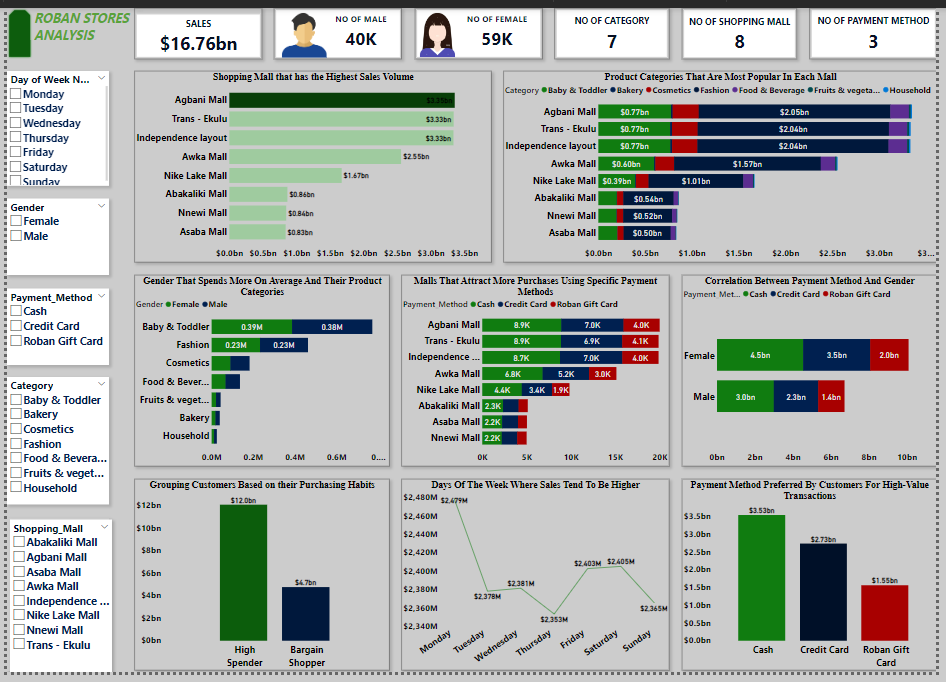

The dashboard page shown, as its layout file describes it:
{"tool":"powerbi","page":{"name":"Visualization","canvas":[3500,2500],"ordinal":0},"visuals":[{"type":"barChart","title":"Shopping Mall that has the Highest Sales Volume","fields":{"Y":["Measure Table.SalesAmount"],"Category":["RobanStoresDataset_Fact_Table.Shopping_Mall"]},"box":[480,240,1344,720],"z":0},{"type":"barChart","title":"Malls That Attract More Purchases Using Specific Payment Methods","fields":{"Series":["PaymentSummary.Payment_Method"],"Category":["PaymentSummary.Shopping_Mall"],"Y":["Sum(PaymentSummary.TransactionCount)"]},"box":[1488,1008,1008,720],"z":1000},{"type":"cardVisual","title":"Sales","fields":{"Data":["Measure Table.SalesAmount"]},"box":[480,0,480,192],"z":2000},{"type":"columnChart","title":"Grouping Customers Based on their Purchasing Habits","fields":{"Category":["RobanStoresDataset_Fact_Table.SpendCluster"],"Y":["Measure Table.SalesAmount"]},"box":[480,1776,960,720],"z":3000},{"type":"barChart","title":"Correlation Between Payment Method And Gender ","fields":{"Category":["RobanStoresDataset_Fact_Table.Gender"],"Series":["Payment_Dimension_Table.Payment_Method"],"Y":["Measure Table.TotalSpend"]},"box":[2540,1008,960,720],"z":4000},{"type":"barChart","title":"Gender That Spends More On Average And Their Product Categories","fields":{"Category":["Category_Dimension_Table.Category"],"Y":["Avg(RobanStoresDataset_Fact_Table.Total Sales)"],"Series":["RobanStoresDataset_Fact_Table.Gender"]},"box":[480,1008,960,720],"z":5000},{"type":"slicer","fields":{"Values":["Payment_Dimension_Table.Payment_Method"]},"box":[0,1056,384,288],"z":6000},{"type":"slicer","fields":{"Values":["RobanStoresDataset_Fact_Table.Category"]},"box":[0,1392,384,480],"z":7000},{"type":"slicer","fields":{"Values":["RobanStoresDataset_Fact_Table.Gender"]},"box":[0,720,384,288],"z":8000},{"type":"textbox","box":[96,0,384,192],"z":9000},{"type":"shape","box":[0,0,96,192],"z":10000},{"type":"cardVisual","fields":{"Data":["Measure Table.Male Count"]},"box":[1008,0,480,192],"z":11000},{"type":"cardVisual","fields":{"Data":["Measure Table.Female Count"]},"box":[1536,0,480,192],"z":12000},{"type":"slicer","fields":{"Values":["RobanStoresDataset_Fact_Table.Shopping_Mall"]},"box":[0,1920,384,576],"z":13000},{"type":"lineChart","title":"Days Of The Week Where Sales Tend To Be Higher","fields":{"Category":["CalendarTable.Day of Week Name"],"Y":["Measure Table.SalesAmount"]},"box":[1488,1776,1008,720],"z":14000},{"type":"clusteredColumnChart","title":"Payment Method Preferred By Customers For High-Value Transactions","fields":{"Category":["HighValuePaymentSummary.Payment_Method"],"Y":["Sum(HighValuePaymentSummary.TotalHighValue)"]},"box":[2540,1776,960,720],"z":15000},{"type":"slicer","fields":{"Values":["RobanStoresDataset_Fact_Table.Shopping_Mall"]},"box":[10,1924,384,576],"z":16000},{"type":"barChart","title":"Product Categories That Are Most Popular In Each Mall","fields":{"Category":["SalesByMallAndCategory.Shopping_Mall"],"Y":["Sum(SalesByMallAndCategory.TotalSalesAmount)"],"Series":["SalesByMallAndCategory.Category"]},"box":[1868,240,1632,720],"z":17000},{"type":"slicer","fields":{"Values":["CalendarTable.Day of Week Name"]},"box":[0,240,384,432],"z":18000},{"type":"cardVisual","fields":{"Data":["Count(RobanStoresDataset_Fact_Table.Category)"]},"box":[2064,0,432,192],"z":19000},{"type":"cardVisual","fields":{"Data":["Count(Shopping_Dimension_Table.Shopping_mall)"]},"box":[2544,0,432,192],"z":20000},{"type":"cardVisual","fields":{"Data":["Count(Payment_Dimension_Table.Payment_Method)"]},"box":[3020,0,480,192],"z":21000}]}

Visuals, with their boxes in screenshot pixels (x1, y1, x2, y2), scaled from the page's 3500x2500 canvas onto the 946x682 screenshot:
"Shopping Mall that has the Highest Sales Volume" barChart: <region>130, 65, 493, 262</region>
"Malls That Attract More Purchases Using Specific Payment Methods" barChart: <region>402, 275, 675, 471</region>
"Sales" cardVisual: <region>130, 0, 259, 52</region>
"Grouping Customers Based on their Purchasing Habits" columnChart: <region>130, 484, 389, 681</region>
"Correlation Between Payment Method And Gender " barChart: <region>687, 275, 945, 471</region>
"Gender That Spends More On Average And Their Product Categories" barChart: <region>130, 275, 389, 471</region>
slicer - Payment_Dimension_Table.Payment_Method: <region>0, 288, 104, 367</region>
slicer - RobanStoresDataset_Fact_Table.Category: <region>0, 380, 104, 511</region>
slicer - RobanStoresDataset_Fact_Table.Gender: <region>0, 196, 104, 275</region>
textbox: <region>26, 0, 130, 52</region>
shape: <region>0, 0, 26, 52</region>
cardVisual - Measure Table.Male Count: <region>272, 0, 402, 52</region>
cardVisual - Measure Table.Female Count: <region>415, 0, 545, 52</region>
slicer - RobanStoresDataset_Fact_Table.Shopping_Mall: <region>0, 524, 104, 681</region>
"Days Of The Week Where Sales Tend To Be Higher" lineChart: <region>402, 484, 675, 681</region>
"Payment Method Preferred By Customers For High-Value Transactions" clusteredColumnChart: <region>687, 484, 945, 681</region>
slicer - RobanStoresDataset_Fact_Table.Shopping_Mall: <region>3, 525, 106, 681</region>
"Product Categories That Are Most Popular In Each Mall" barChart: <region>505, 65, 945, 262</region>
slicer - CalendarTable.Day of Week Name: <region>0, 65, 104, 183</region>
cardVisual - Count(RobanStoresDataset_Fact_Table.Category): <region>558, 0, 675, 52</region>
cardVisual - Count(Shopping_Dimension_Table.Shopping_mall): <region>688, 0, 804, 52</region>
cardVisual - Count(Payment_Dimension_Table.Payment_Method): <region>816, 0, 945, 52</region>
